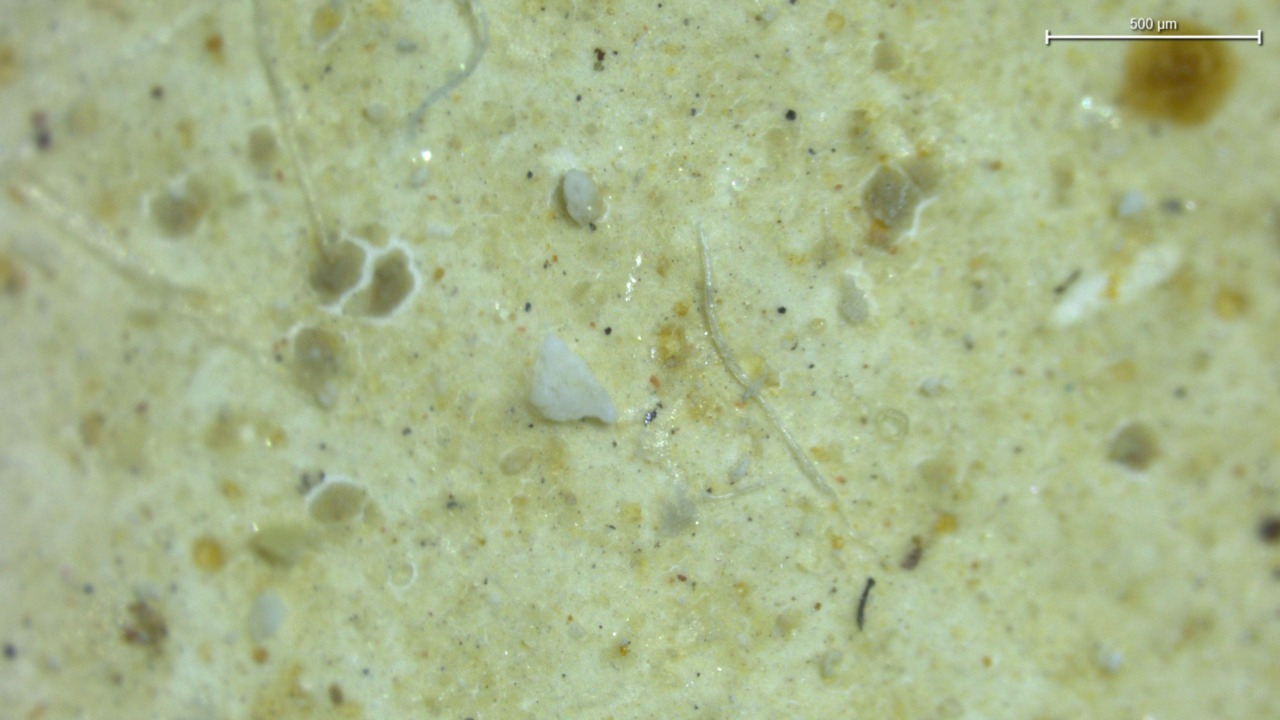microplastic_fragment: (531, 333, 616, 423), (563, 169, 606, 225)
